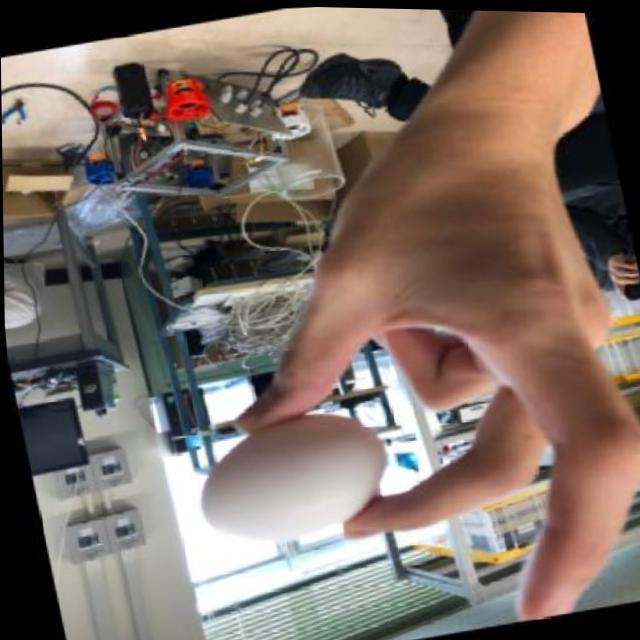egg: (194, 401, 395, 547)
